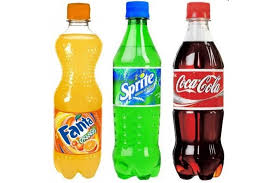fanta: (58, 4, 102, 175)
